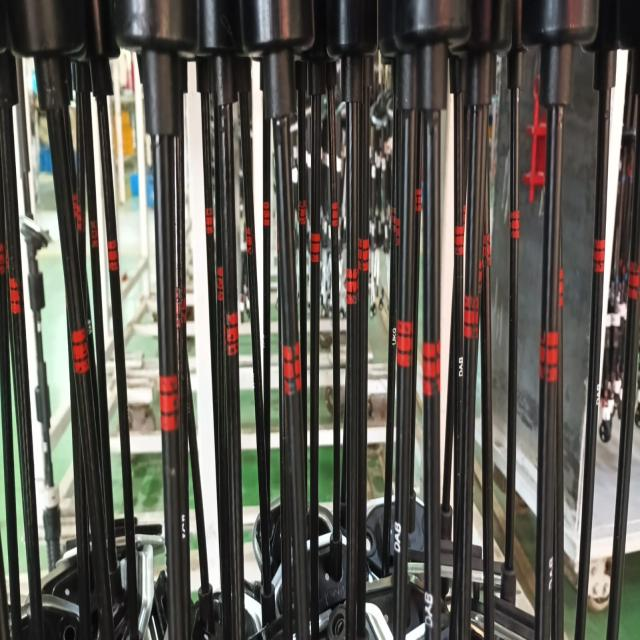red: (157, 375, 180, 433), (281, 346, 302, 400), (539, 330, 558, 381), (424, 344, 440, 394), (70, 332, 88, 375), (223, 312, 239, 355), (398, 319, 412, 368), (464, 294, 478, 337), (9, 278, 24, 316), (356, 236, 370, 272), (593, 236, 606, 273), (628, 263, 640, 303), (175, 288, 187, 327), (346, 269, 358, 303), (107, 242, 119, 270), (454, 227, 464, 256), (510, 210, 520, 238), (311, 233, 320, 263), (205, 208, 214, 237), (89, 223, 99, 249), (298, 198, 307, 226), (484, 235, 492, 266), (262, 201, 271, 228), (245, 226, 252, 256), (415, 188, 422, 213), (332, 203, 338, 227)
